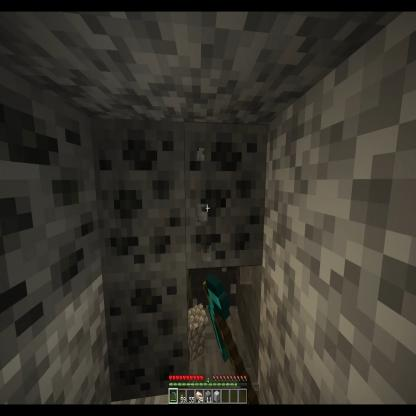coal ore: (0, 77, 94, 378), (93, 121, 188, 282), (104, 267, 194, 408), (185, 122, 267, 268)
